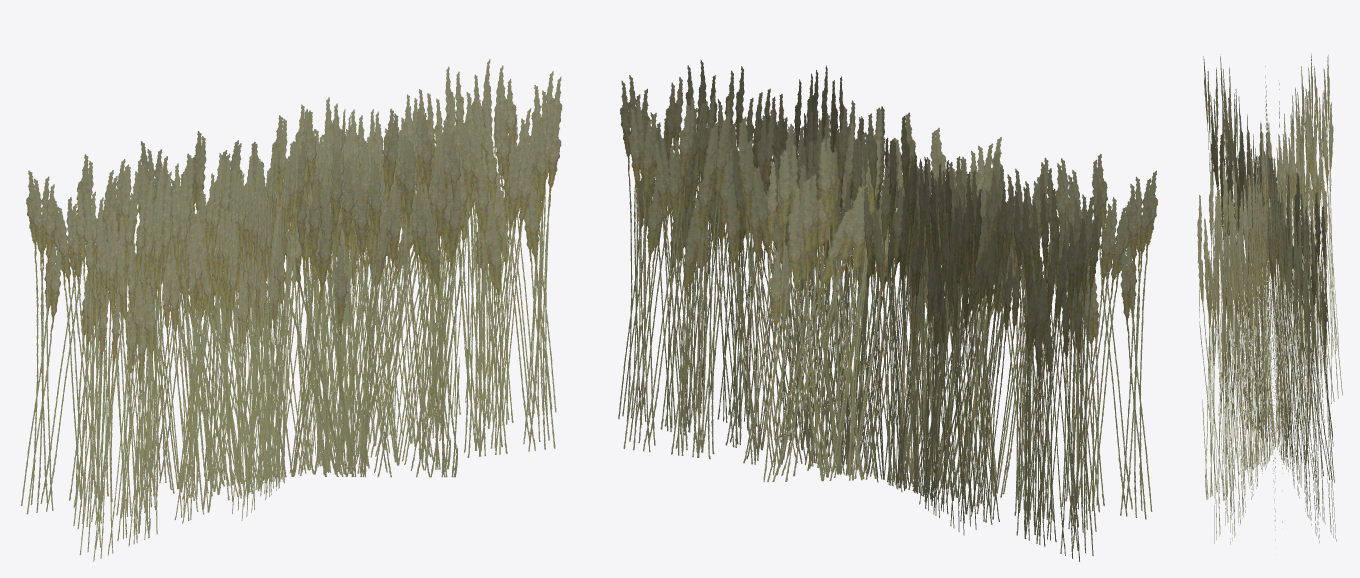
Rendered from WaterGrass_02_v01_02.obj.
3 renders of one model, left to right at view 1: azimuth 30°, elevation 25°; view 2: azimuth 150°, elevation 25°; view 3: azimuth 270°, elevation 25°, orthographic. The views are drawn at different scales.
Visible parts, largest first — view 1: polySurface3; view 2: polySurface3; view 3: polySurface3.
Boxes of the visible parts, box(x1,y1,x2,y2) form: polySurface3: box(21, 59, 562, 561); polySurface3: box(618, 59, 1157, 561); polySurface3: box(1197, 53, 1342, 544).
Bounding box in the file's own units: 37.76 × 26.54 × 10.98.
Materials: 1 (1 with a texture image).
